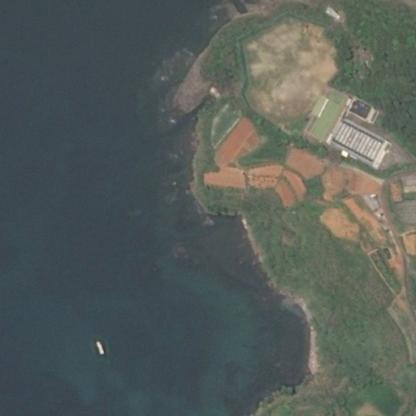ship: (89, 336, 113, 358)
